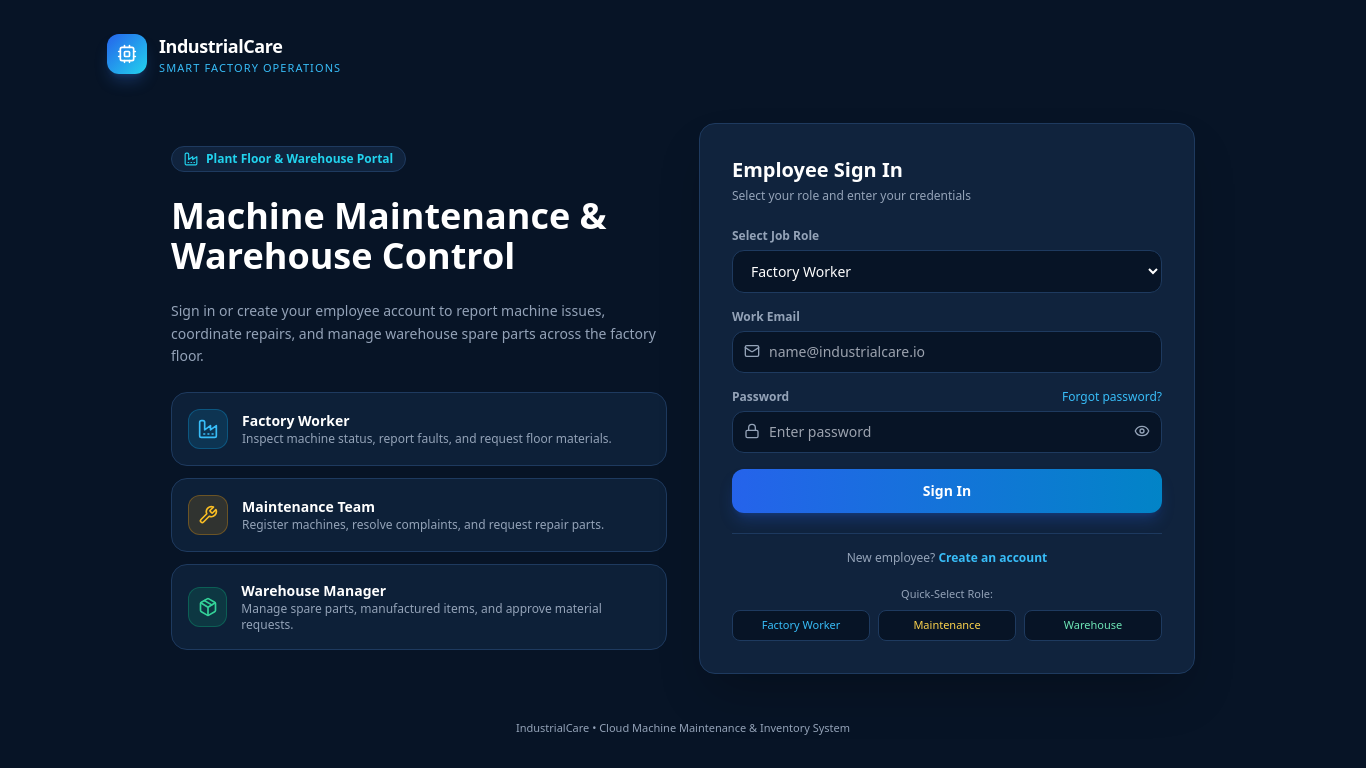
startup + authentication UI › shows backend authentication errors
Check: the heading "Employee Sign In" is shown, box [732,156,903,182]
Type "worker@x.io" into the field with placeholder "name@industrialcare.io" at (947, 352), box [732,330,1162,372]
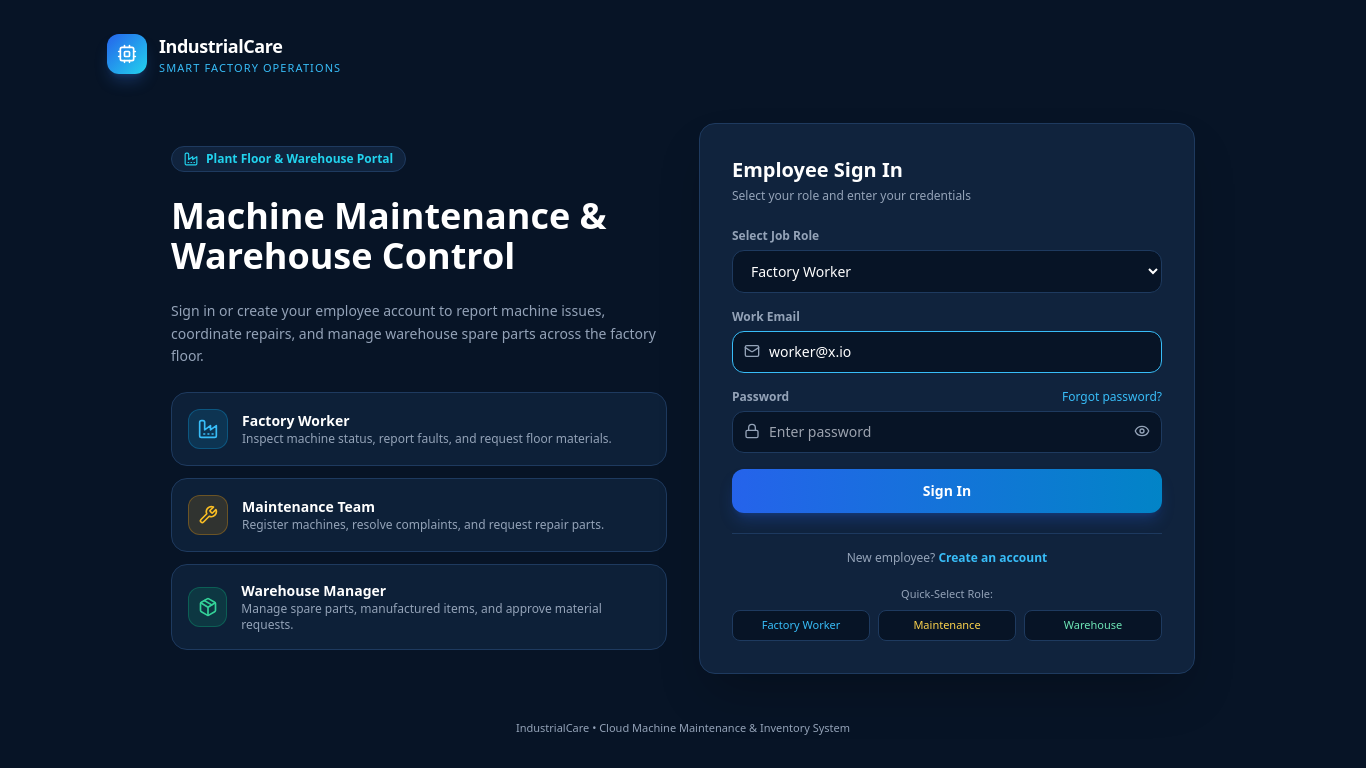
Type "wrong" into the password field with placeholder "Enter password" at (947, 432), box [732,410,1162,452]
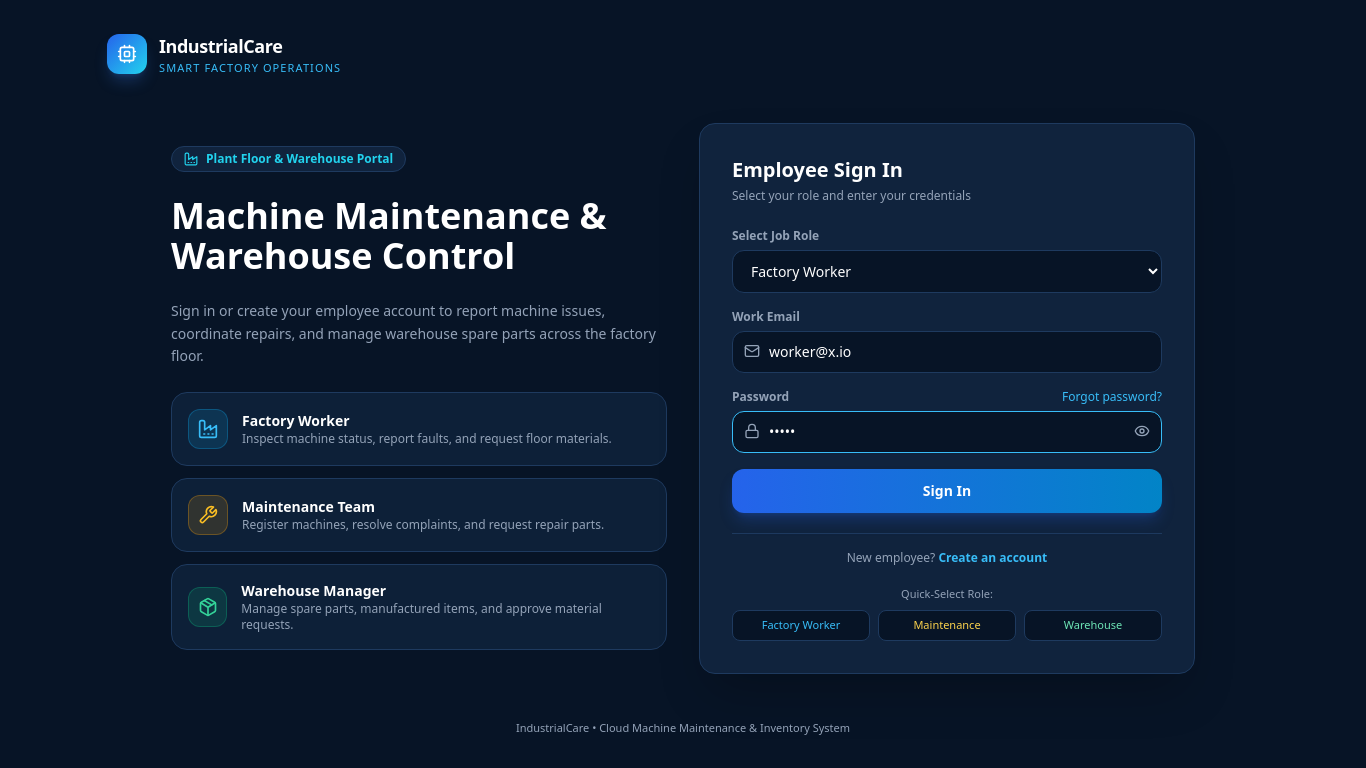
Click the button "Sign In" at (947, 490), box [732,468,1162,512]
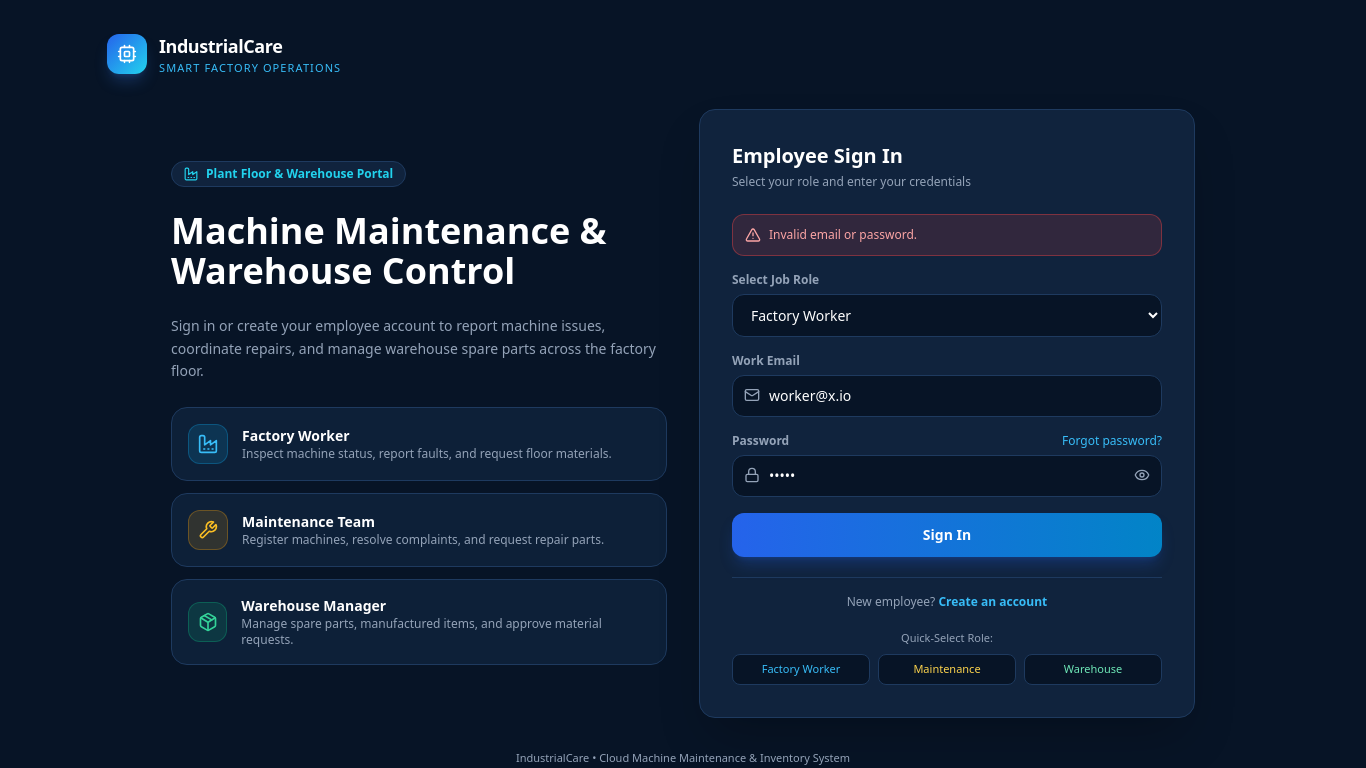
Check: the text "Invalid email or password." is shown, box [769,226,917,242]
